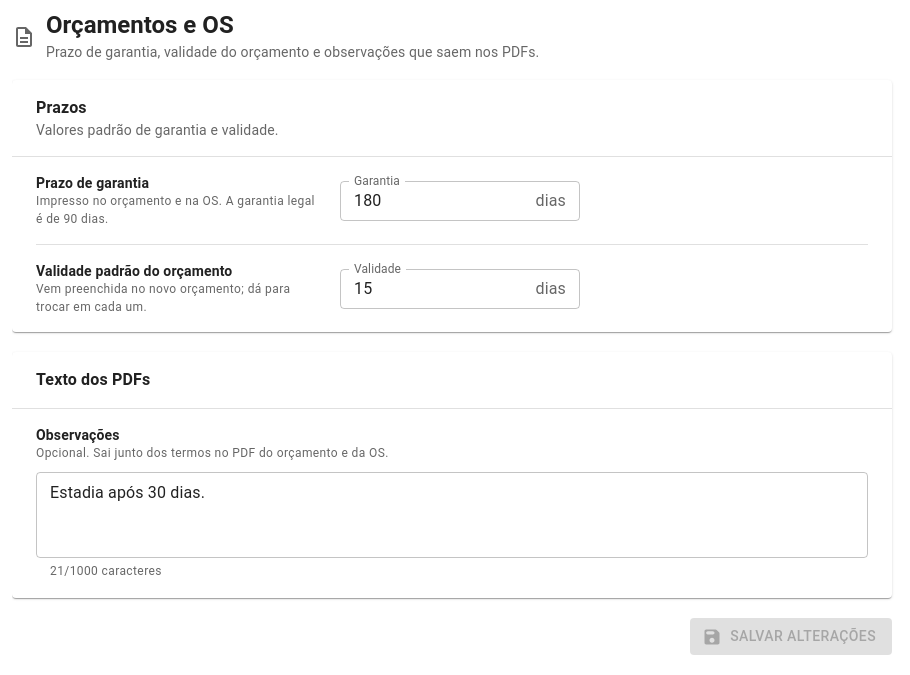
Scenario: Configurações > Orçamentos e OS › Descartar volta ao último valor salvo
Replace the text in the number field with test id "garantia-dias" with "999" at (434, 201), box [340,181,528,221]
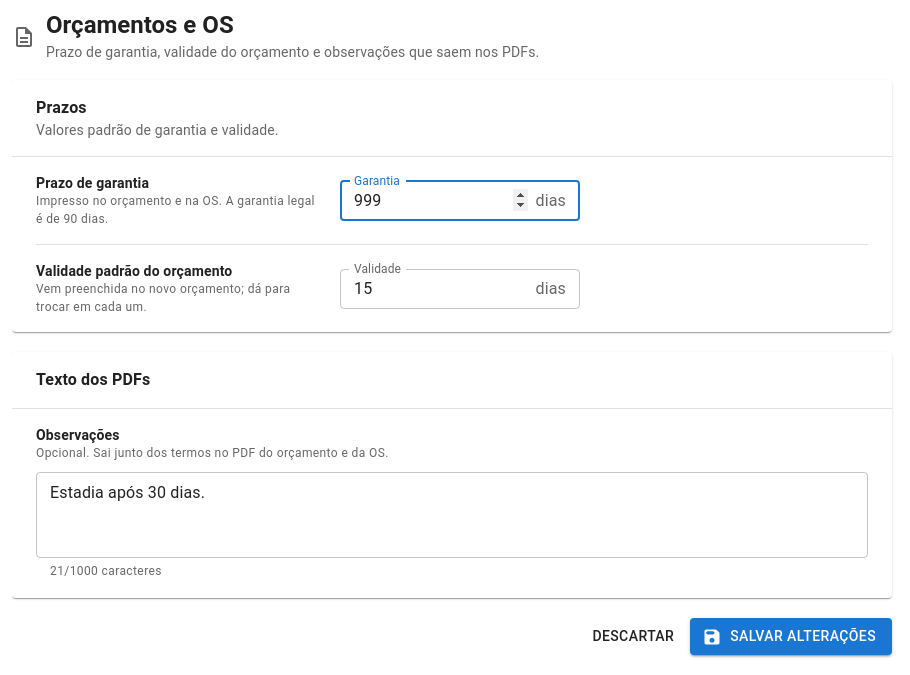
Click the button with test id "descartar-documentos" at (633, 637), box [584,618,682,655]
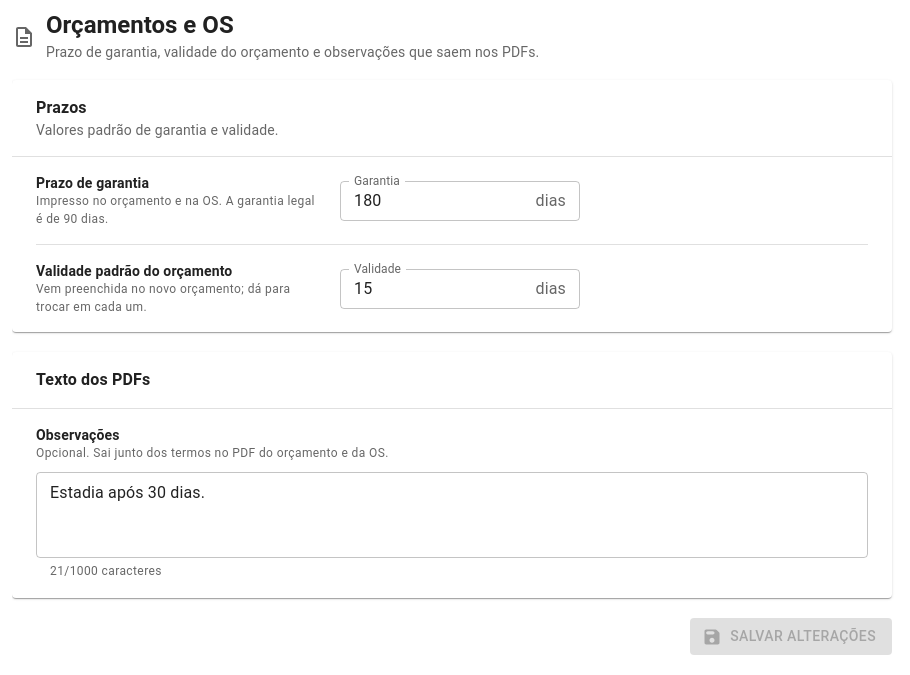
Expected: the number field with test id "garantia-dias" holds "180", [340,181,528,221]
Expected: the button with test id "descartar-documentos" is gone
